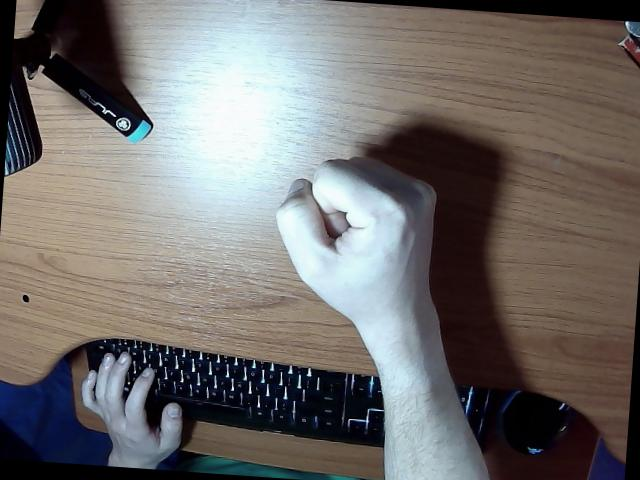rock: (275, 158, 490, 480)
